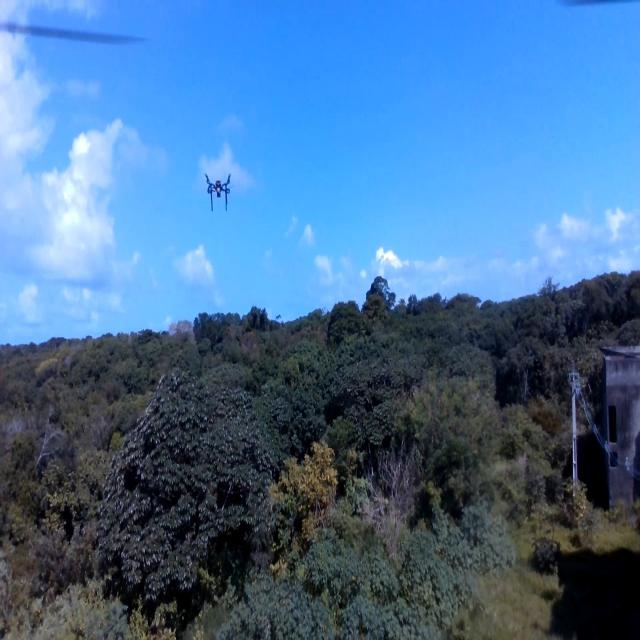-uav-: (200, 161, 238, 218)
